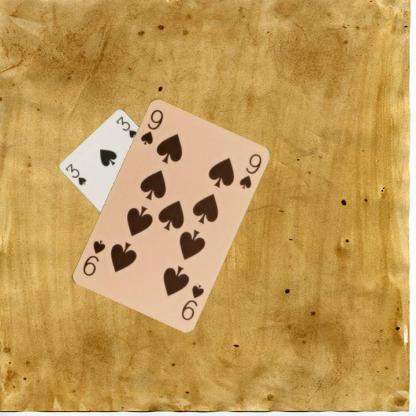3s: (63, 160, 88, 186)
9s: (178, 282, 206, 322), (138, 106, 164, 146)
